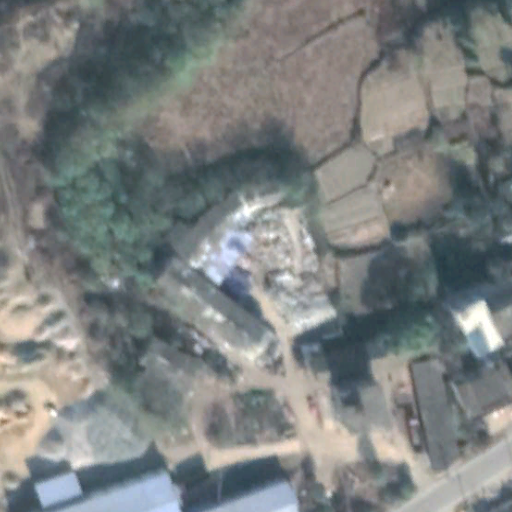msw: (236, 203, 338, 336)
